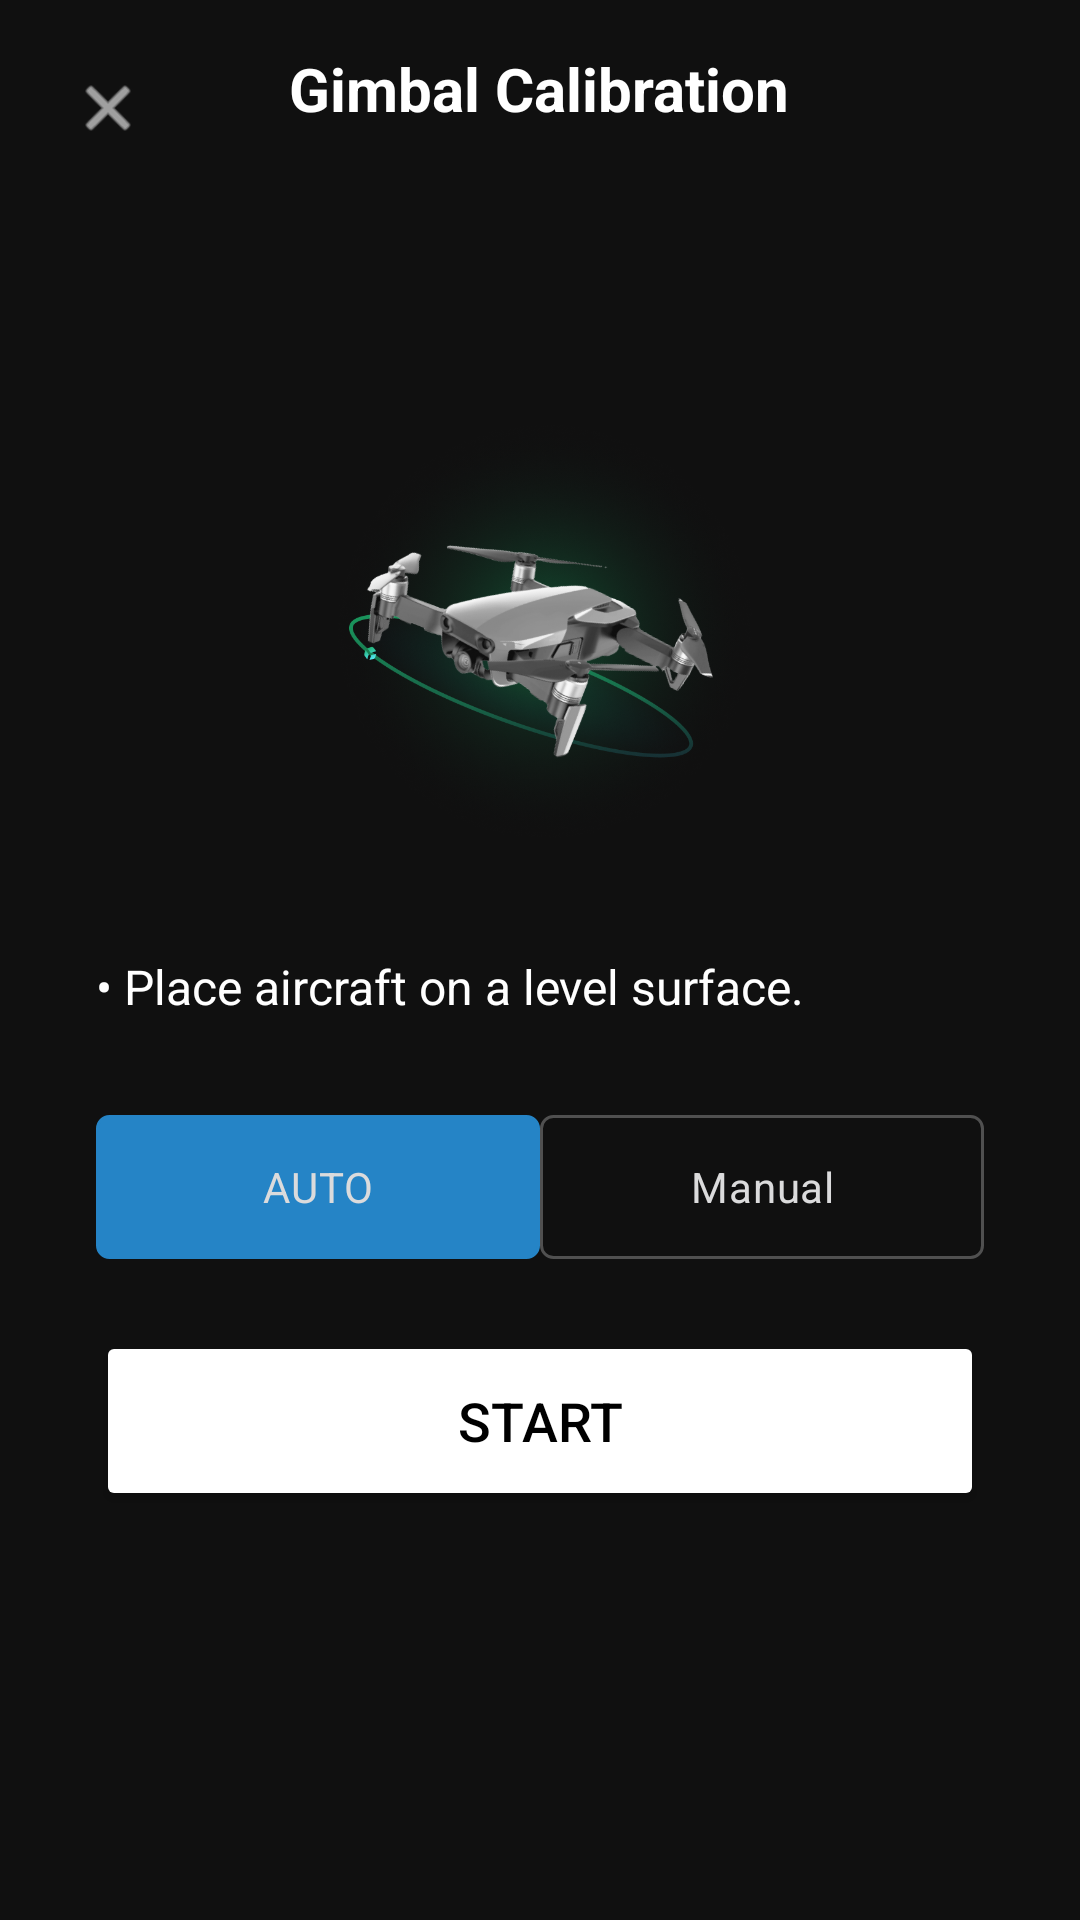

Icons on this 1080×1920 Android screen, each with its box as (x1, y1, x2, y2):
Close: (85, 85, 131, 131)
